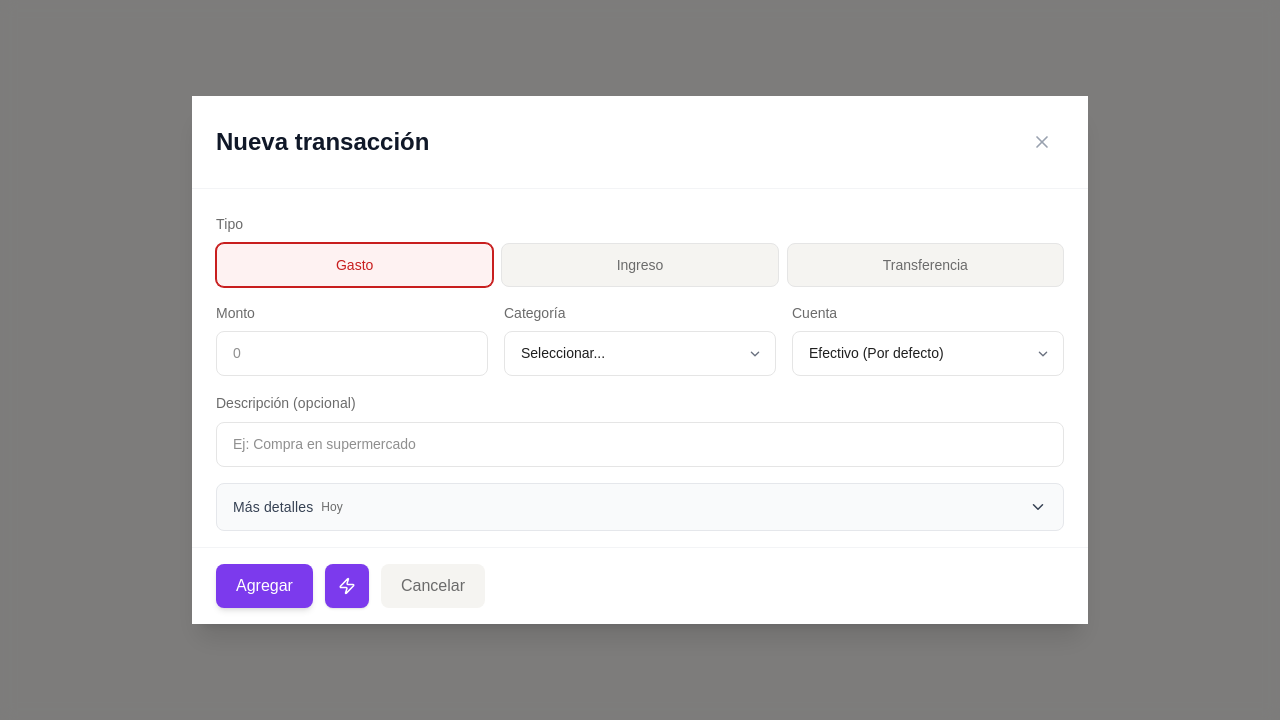
Test: TransactionForm compacto › deja los detalles opcionales plegados en un gasto habitual
Check: the field labelled "Monto" is shown, box [216, 331, 488, 376]
Check: the dropdown labelled "Categoría" is shown, box [504, 331, 776, 376]
Type "Compra semanal" into the field labelled "Descripción (opcional)" at (640, 444), box [216, 422, 1064, 467]
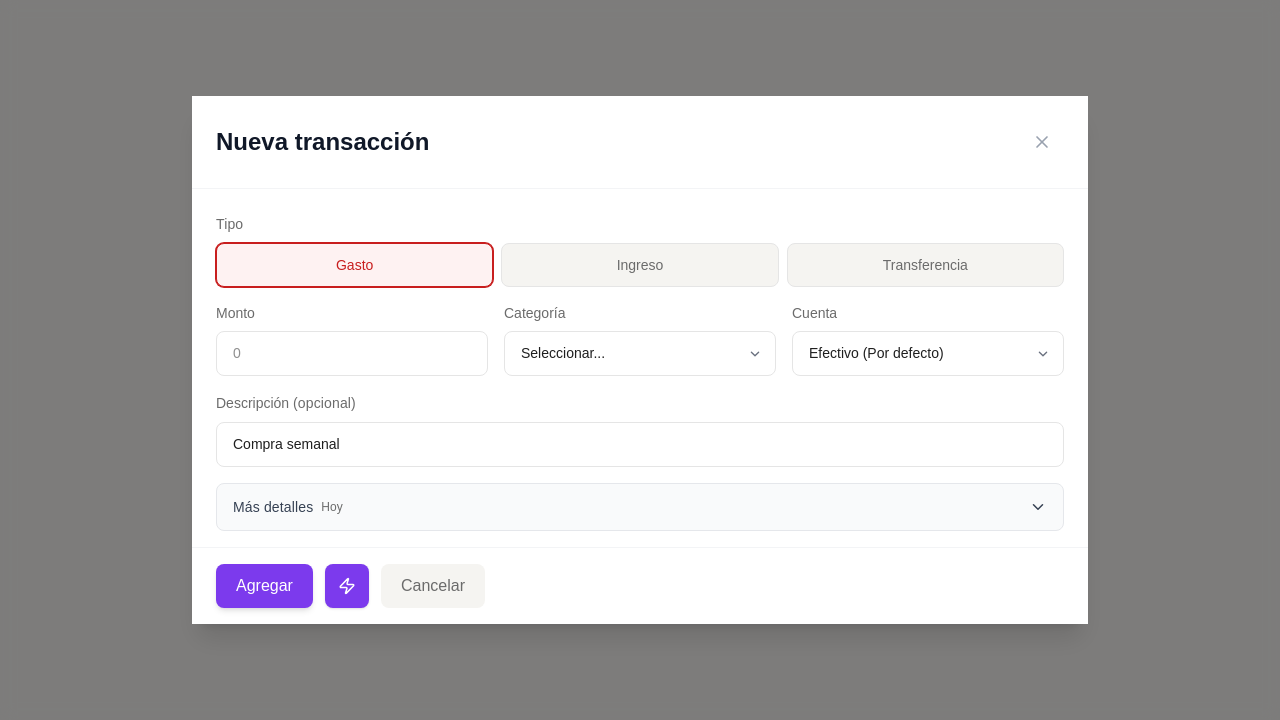
Click the button "Más detalles Hoy" at (273, 507), box [216, 483, 1064, 531]
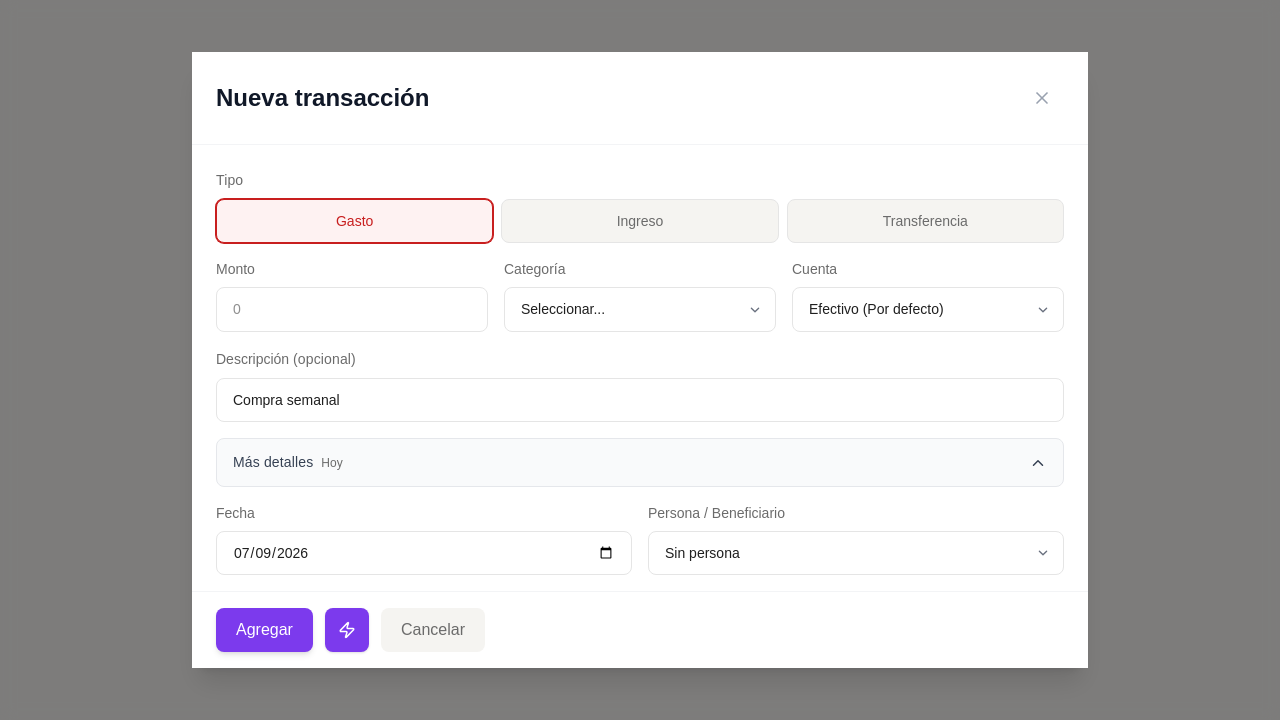
Check: the button "Más detalles Hoy" is expanded, box [216, 438, 1064, 487]
Check: the date field labelled "Fecha" is shown, box [216, 531, 632, 575]
Check: the dropdown labelled "Persona / Beneficiario" is shown, box [648, 531, 1064, 575]
